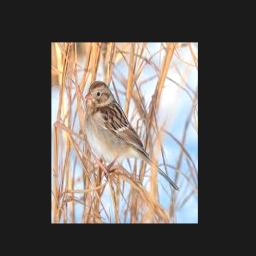Sparrow: (85, 81, 179, 192)
